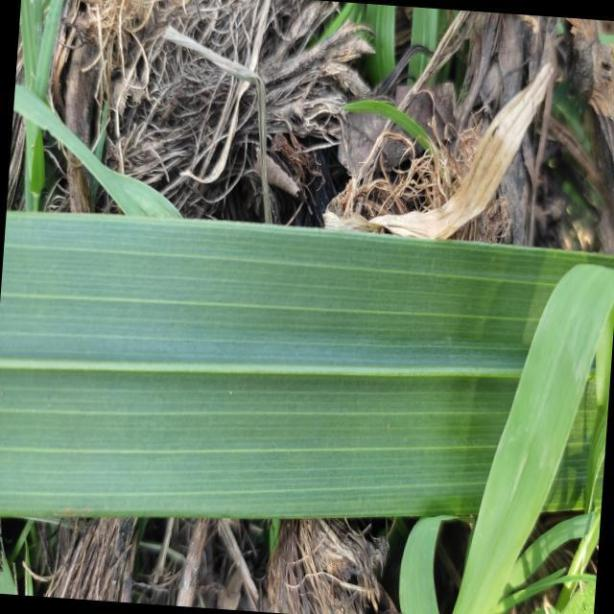Healthy: (0, 208, 614, 521)
